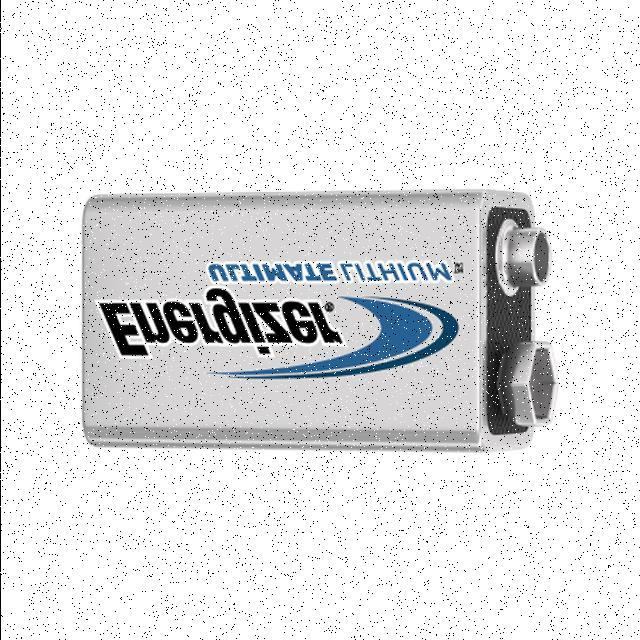9V: (80, 188, 555, 450)
